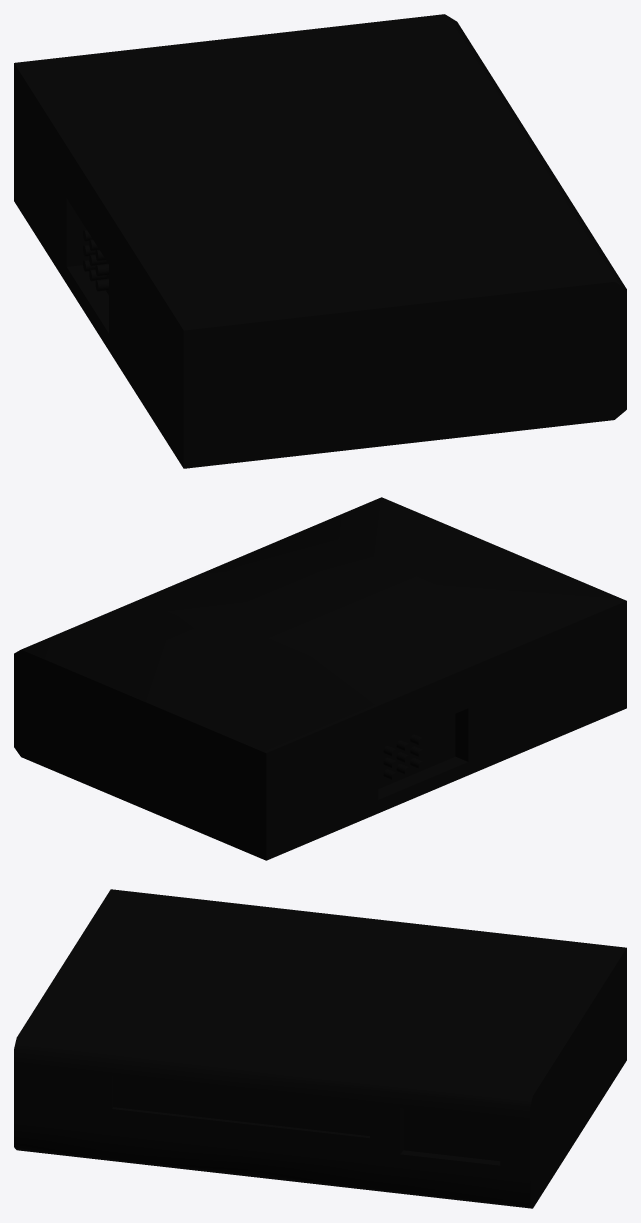
3 views of the same model, one above another, from view 1: azimuth 30°, elevation 25°; view 2: azimuth 150°, elevation 25°; view 3: azimuth 270°, elevation 25° (orthographic). The views are drawn at different scales.
Visible parts, largest first — view 1: Joint_0_Object_0, Joint_0_Object_1; view 2: Joint_0_Object_0, Joint_0_Object_1; view 3: Joint_0_Object_0, Joint_0_Object_1, Joint_0_Object_2.
Part boxes in pixels (left/top/right/bottom): Joint_0_Object_0: left=14, top=14, right=614, bottom=468; Joint_0_Object_1: left=445, top=14, right=626, bottom=419; Joint_0_Object_0: left=21, top=497, right=626, bottom=860; Joint_0_Object_1: left=14, top=650, right=20, bottom=756; Joint_0_Object_0: left=17, top=889, right=626, bottom=1207; Joint_0_Object_1: left=14, top=1037, right=532, bottom=1208; Joint_0_Object_2: left=400, top=1108, right=500, bottom=1165.
Bounding box in the file's own units: 804 × 225 × 986.
3 materials, 3 textured.
